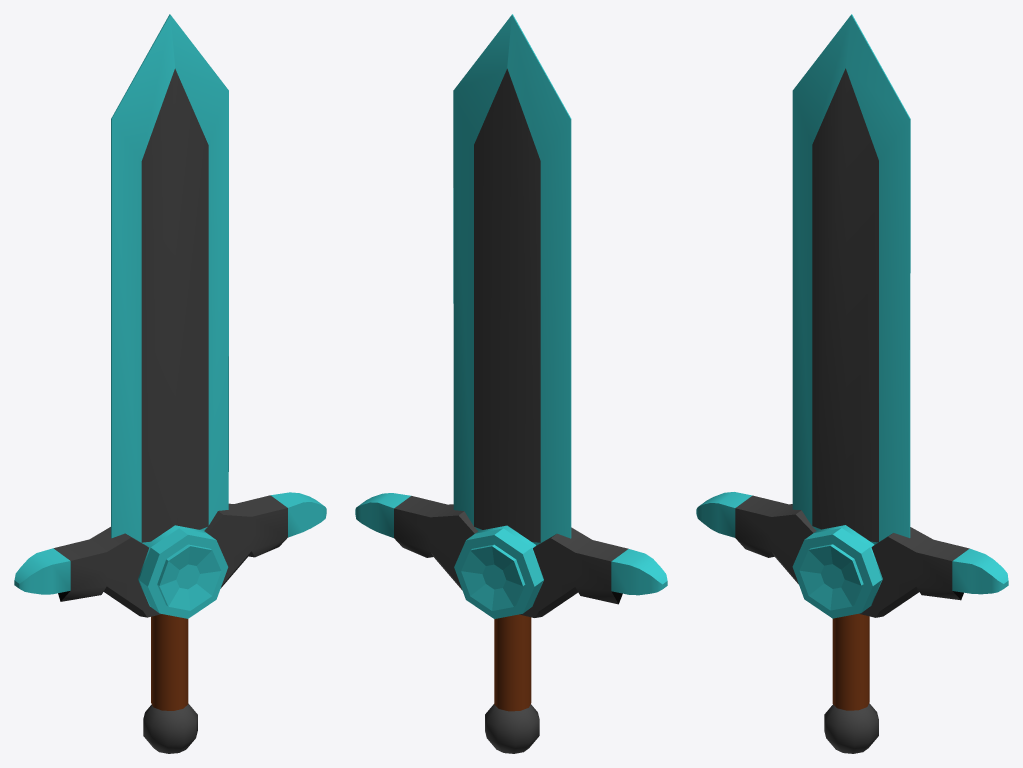
Rendered from Claymore.fbx.
3 renders of one model, left to right at view 1: azimuth 30°, elevation 25°; view 2: azimuth 150°, elevation 25°; view 3: azimuth 330°, elevation 25°, orthographic.
Parts seen in each view (by area): view 1: Line001, Box001, Cylinder001, Cylinder002, Sphere001; view 2: Line001, Box001, Cylinder001, Cylinder002, Sphere001; view 3: Line001, Box001, Cylinder001, Cylinder002, Sphere001.
Boxes of the visible parts, bbox=[...] form: Line001: bbox=[111, 14, 228, 545]; Box001: bbox=[14, 492, 326, 617]; Cylinder001: bbox=[138, 525, 228, 618]; Cylinder002: bbox=[151, 614, 188, 710]; Sphere001: bbox=[143, 703, 197, 753]; Line001: bbox=[453, 14, 571, 545]; Box001: bbox=[355, 493, 667, 617]; Cylinder001: bbox=[454, 525, 543, 618]; Cylinder002: bbox=[494, 614, 531, 711]; Sphere001: bbox=[485, 704, 539, 753]; Line001: bbox=[792, 14, 910, 544]; Box001: bbox=[696, 492, 1008, 617]; Cylinder001: bbox=[792, 525, 882, 618]; Cylinder002: bbox=[832, 613, 869, 710]; Sphere001: bbox=[824, 703, 878, 753].
Bounding box in the file's own units: 48.44 × 111 × 11.32.
